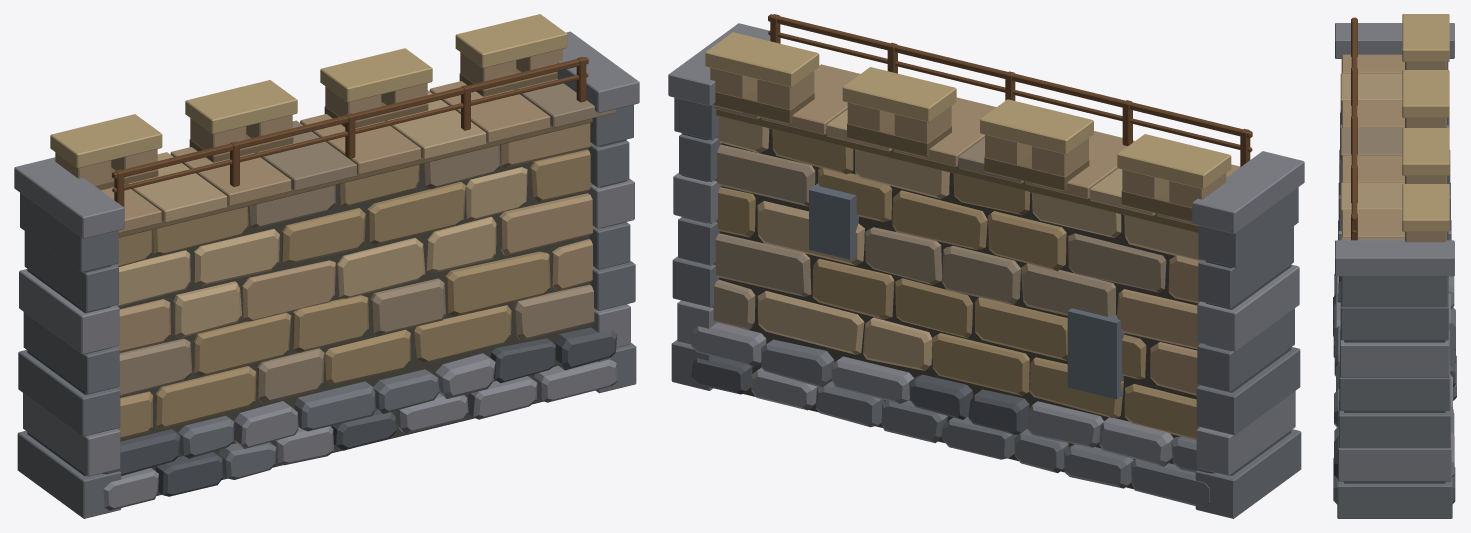
Rendered from mdl_wall_segment_a_v2.glb.
3 views of the same model, side by side, from view 1: azimuth 30°, elevation 25°; view 2: azimuth 150°, elevation 25°; view 3: azimuth 270°, elevation 25° (orthographic). The views are drawn at different scales.
Parts seen in each view (by area): view 1: GEO_Wall_Segment_A_Detail, GEO_Wall_Segment_A; view 2: GEO_Wall_Segment_A_Detail, GEO_Wall_Segment_A; view 3: GEO_Wall_Segment_A, GEO_Wall_Segment_A_Detail.
Part boxes in pixels (x1,y1,x2,y2): GEO_Wall_Segment_A_Detail: (102, 123, 617, 510); GEO_Wall_Segment_A: (14, 14, 639, 518); GEO_Wall_Segment_A_Detail: (691, 116, 1216, 506); GEO_Wall_Segment_A: (668, 14, 1304, 518); GEO_Wall_Segment_A: (1335, 14, 1454, 518); GEO_Wall_Segment_A_Detail: (1333, 232, 1456, 504).
Size of the model in its own units: 7.15 by 4.07 by 1.59.
